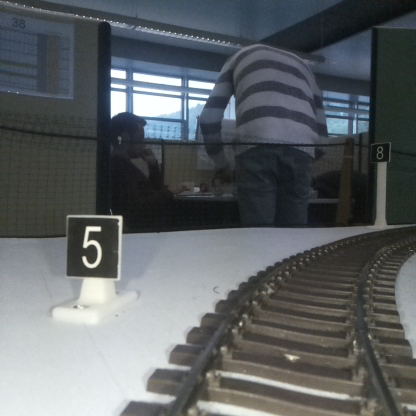black-info-8: (371, 142, 389, 227)
black-stop-5: (67, 217, 119, 319)
